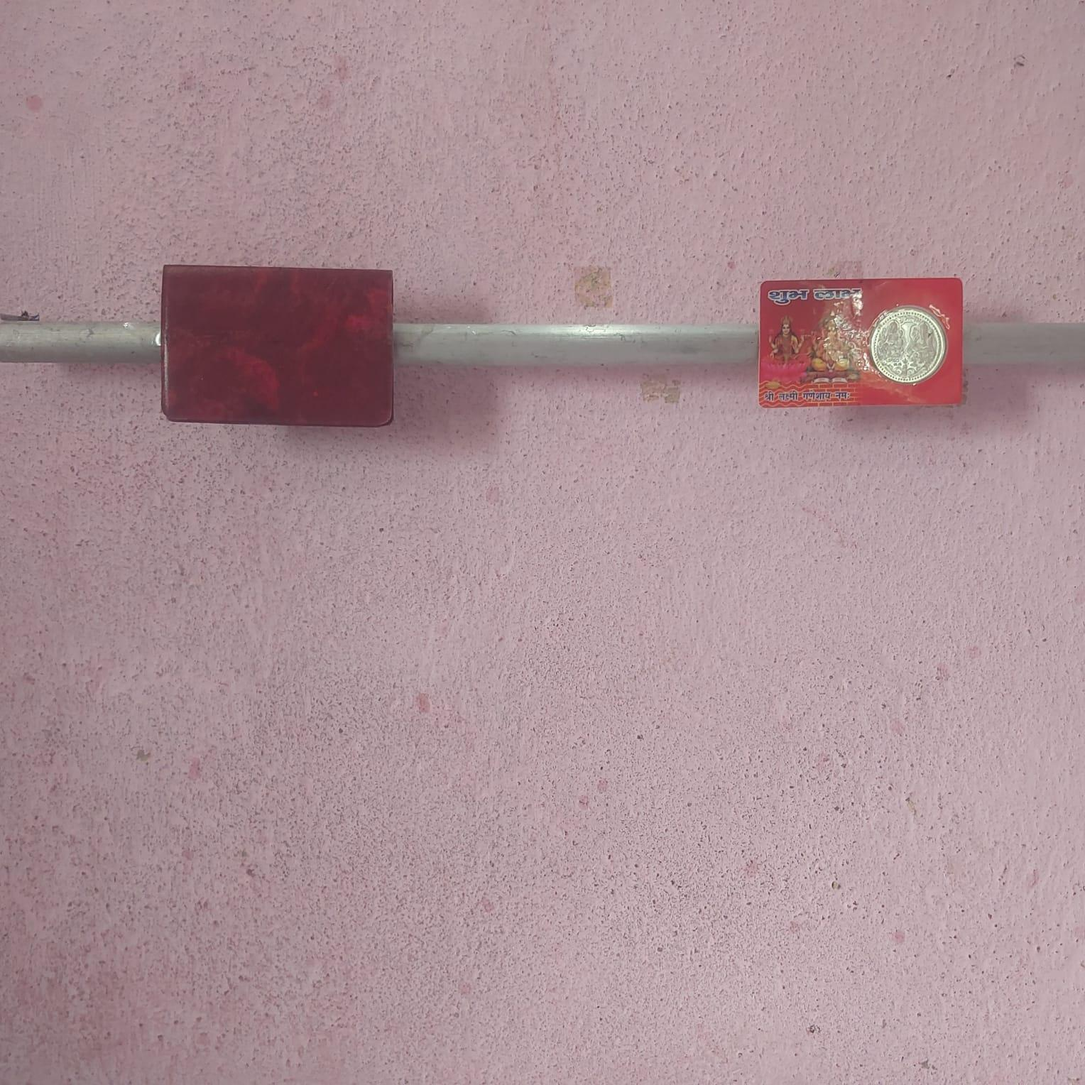blessing_card: (754, 274, 970, 405)
wallet: (158, 255, 393, 431)
